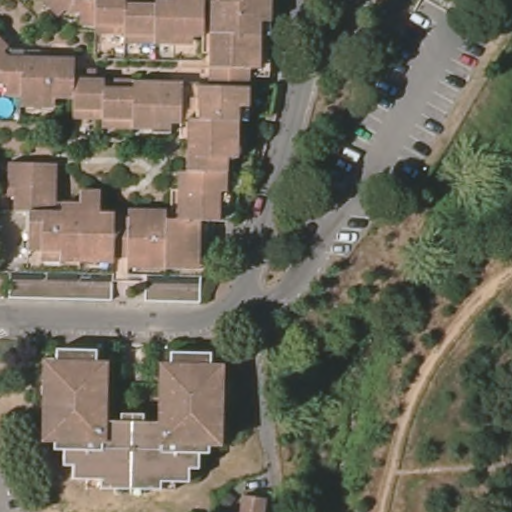pool: (1, 96, 20, 120)
